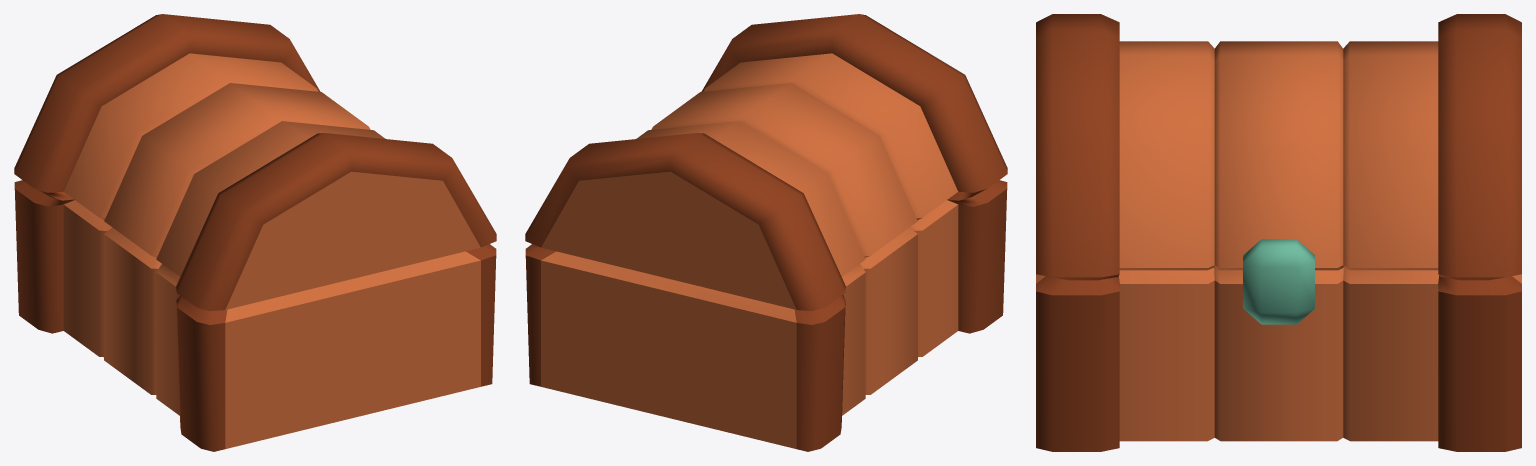
The model's file is chest.obj.
The picture shows the model from 3 angles, left to right: view 1: azimuth 30°, elevation 25°; view 2: azimuth 150°, elevation 25°; view 3: azimuth 270°, elevation 25°; orthographic projection. The views are drawn at different scales.
Parts seen in each view (by area): view 1: chest; view 2: chest; view 3: chest.
Part boxes in pixels (box(x1,y1,x2,y2)): chest: box(14, 14, 496, 451); chest: box(525, 14, 1007, 451); chest: box(1036, 14, 1521, 451).
Bounding box in the file's own units: 0.9441 × 0.8003 × 1.06.
